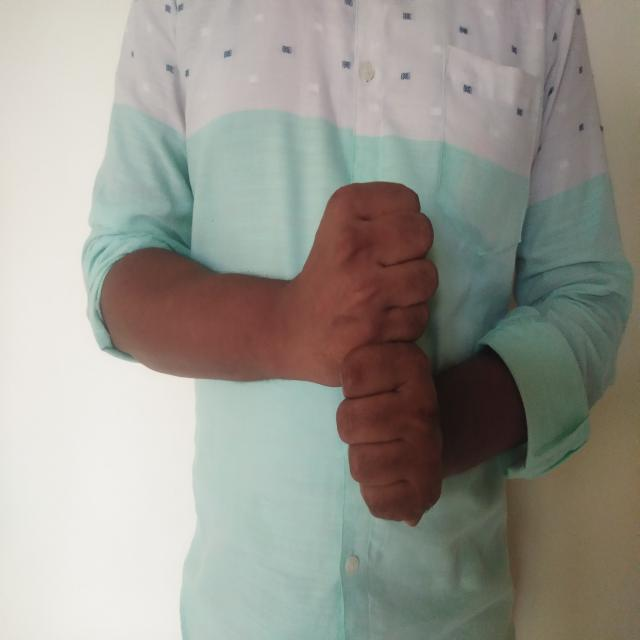G: (284, 163, 470, 536)
